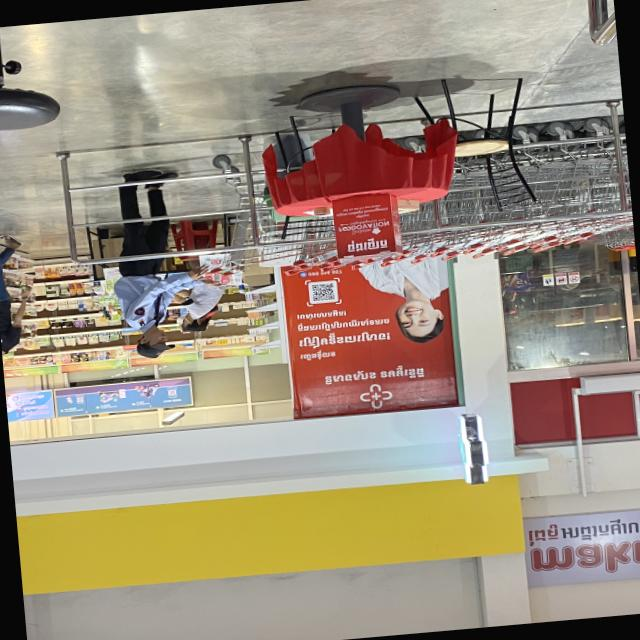1: (321, 361, 428, 391)
502: (307, 268, 343, 277)
Yolov11kh: (523, 516, 640, 548), (293, 313, 394, 336), (298, 326, 391, 350), (294, 306, 350, 321), (345, 235, 389, 252), (298, 347, 337, 362)
